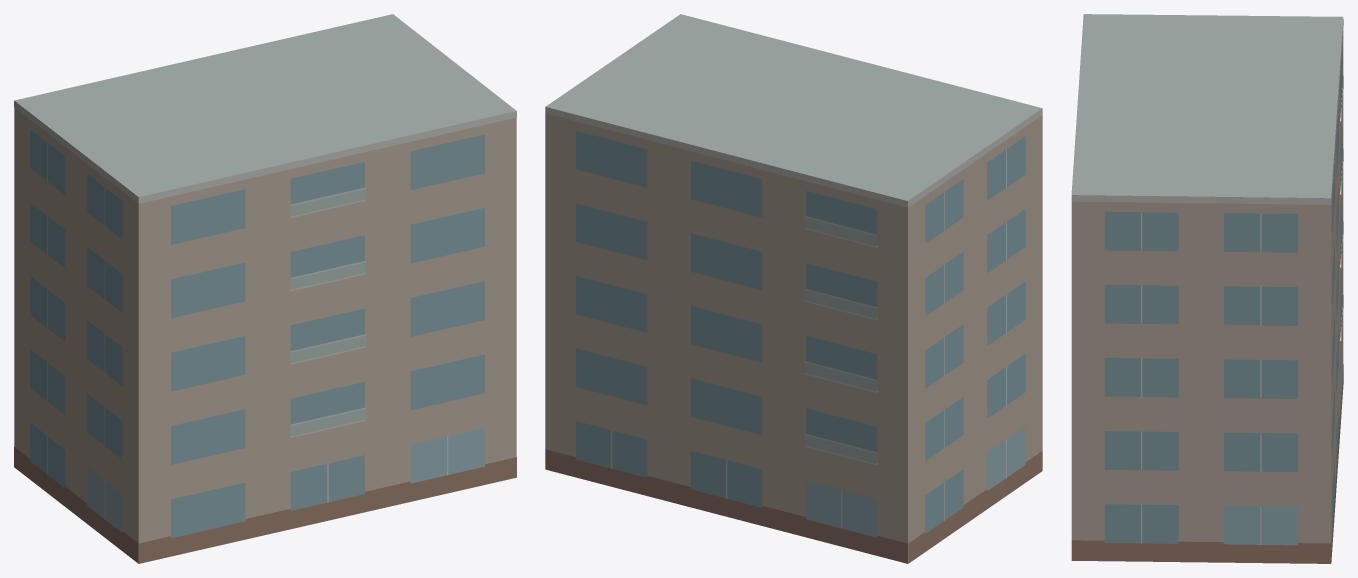
Rendered from survey-upis-32917474.glb.
The picture shows the model from 3 angles, left to right: view 1: azimuth 30°, elevation 25°; view 2: azimuth 150°, elevation 25°; view 3: azimuth 270°, elevation 25°; orthographic projection.
Visible parts, largest first — view 1: survey-upis-32917474.tmp; view 2: survey-upis-32917474.tmp; view 3: survey-upis-32917474.tmp.
Boxes of the visible parts, x1,y1,x2,y2 form: survey-upis-32917474.tmp: [14, 14, 516, 563]; survey-upis-32917474.tmp: [545, 14, 1042, 563]; survey-upis-32917474.tmp: [1071, 14, 1343, 563].
Bounding box in the file's own units: 14.48 × 13.4 × 9.04.
